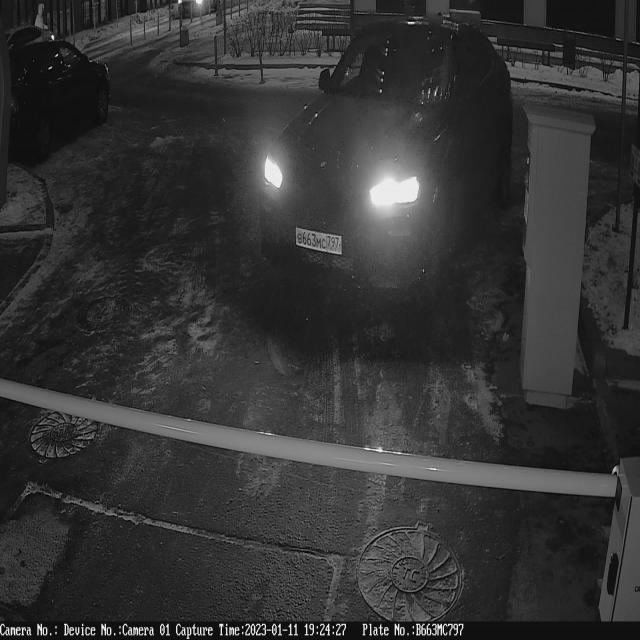car-plate-numbers: (291, 224, 346, 262)
